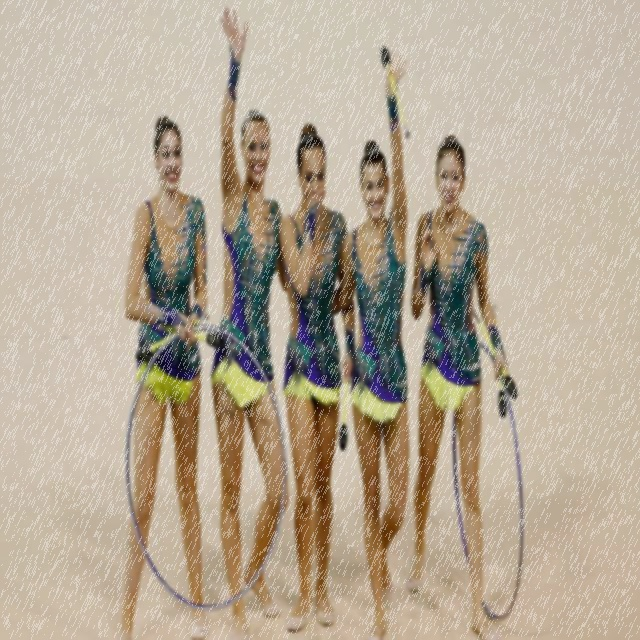pessoa: (406, 131, 524, 639), (113, 110, 210, 639), (209, 2, 289, 639), (328, 45, 412, 639), (278, 120, 354, 636)
